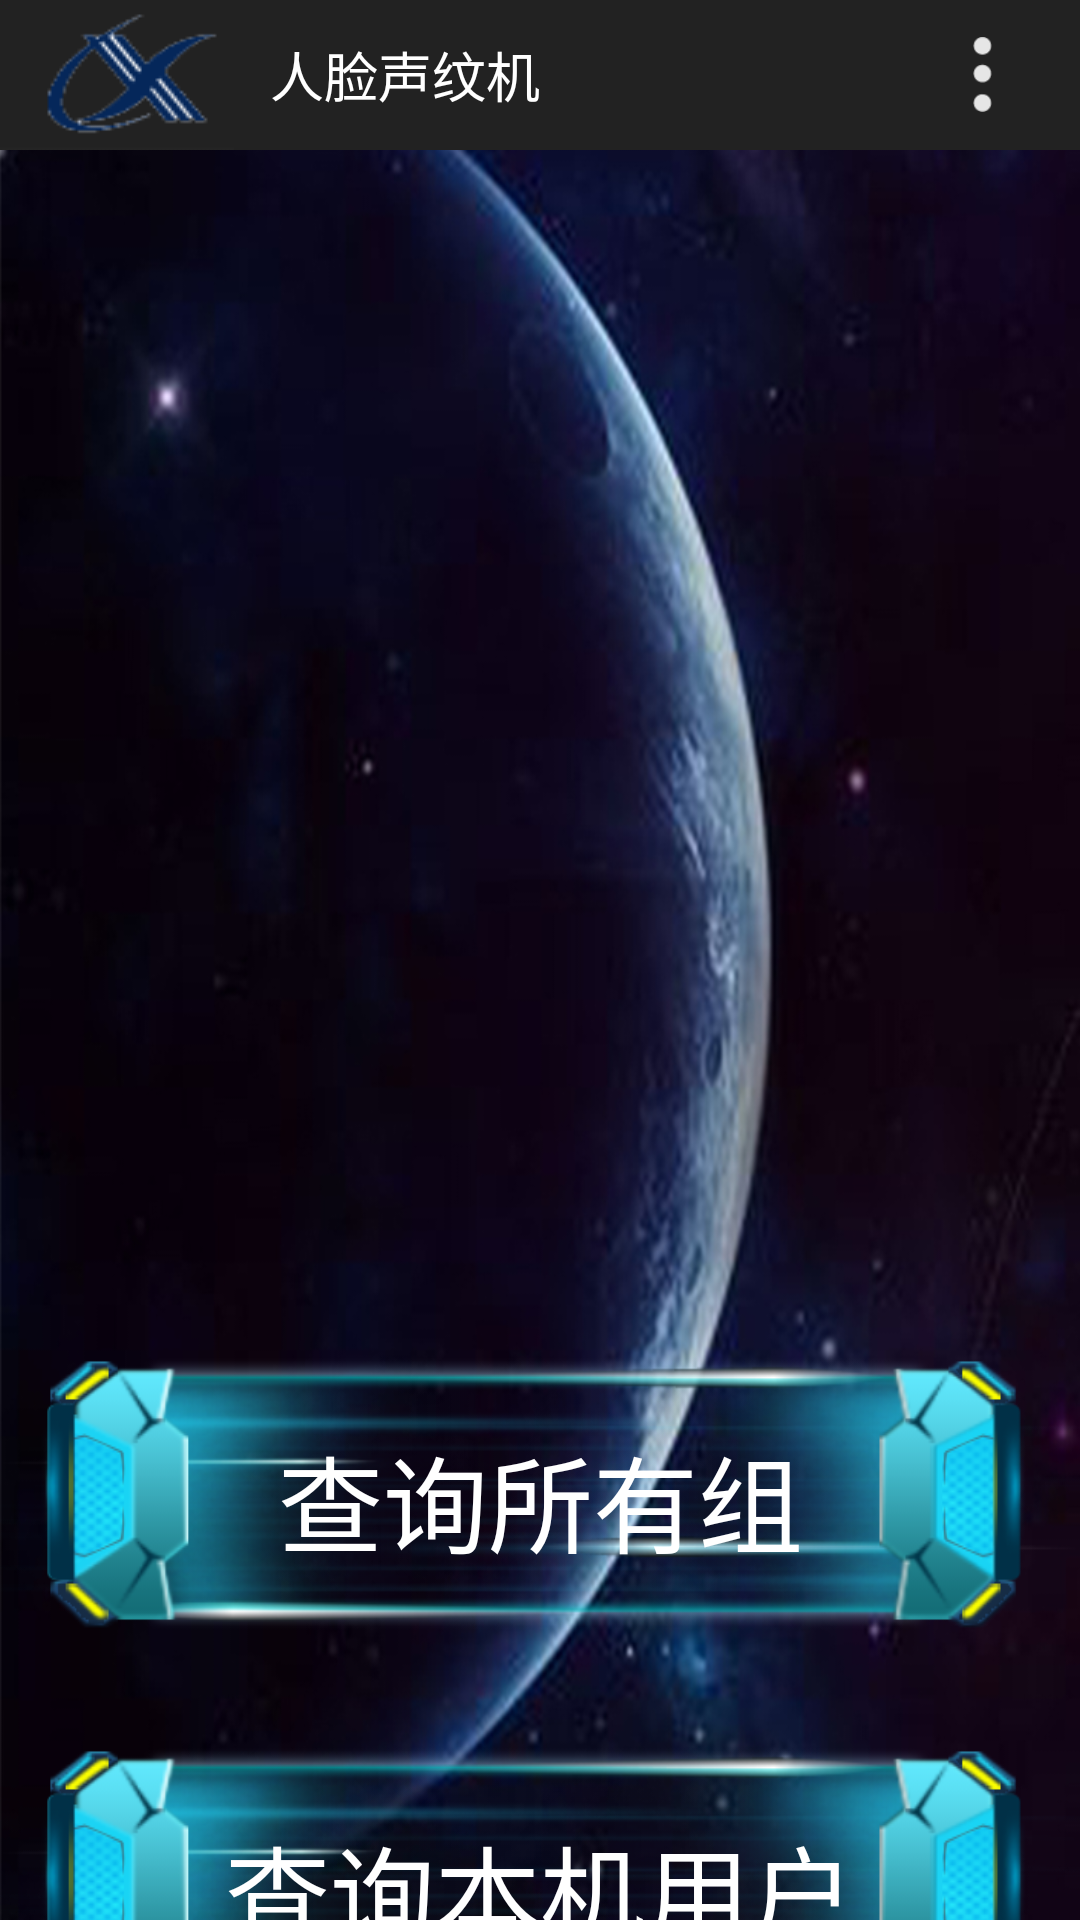

Screen size 1080 x 1920. Icon name, then its center in pixels as [x,y]:
more: [982,74]
